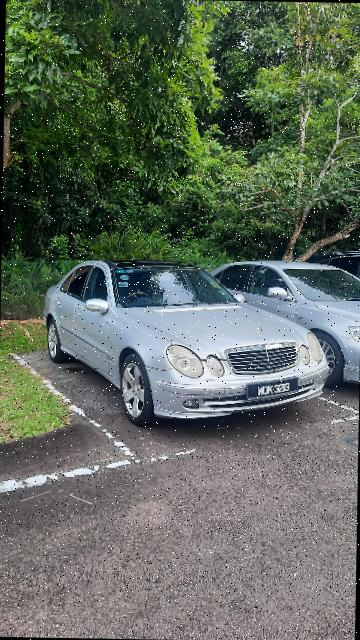License_Plate: (246, 377, 301, 402)
car: (42, 256, 336, 429), (204, 260, 360, 389)
